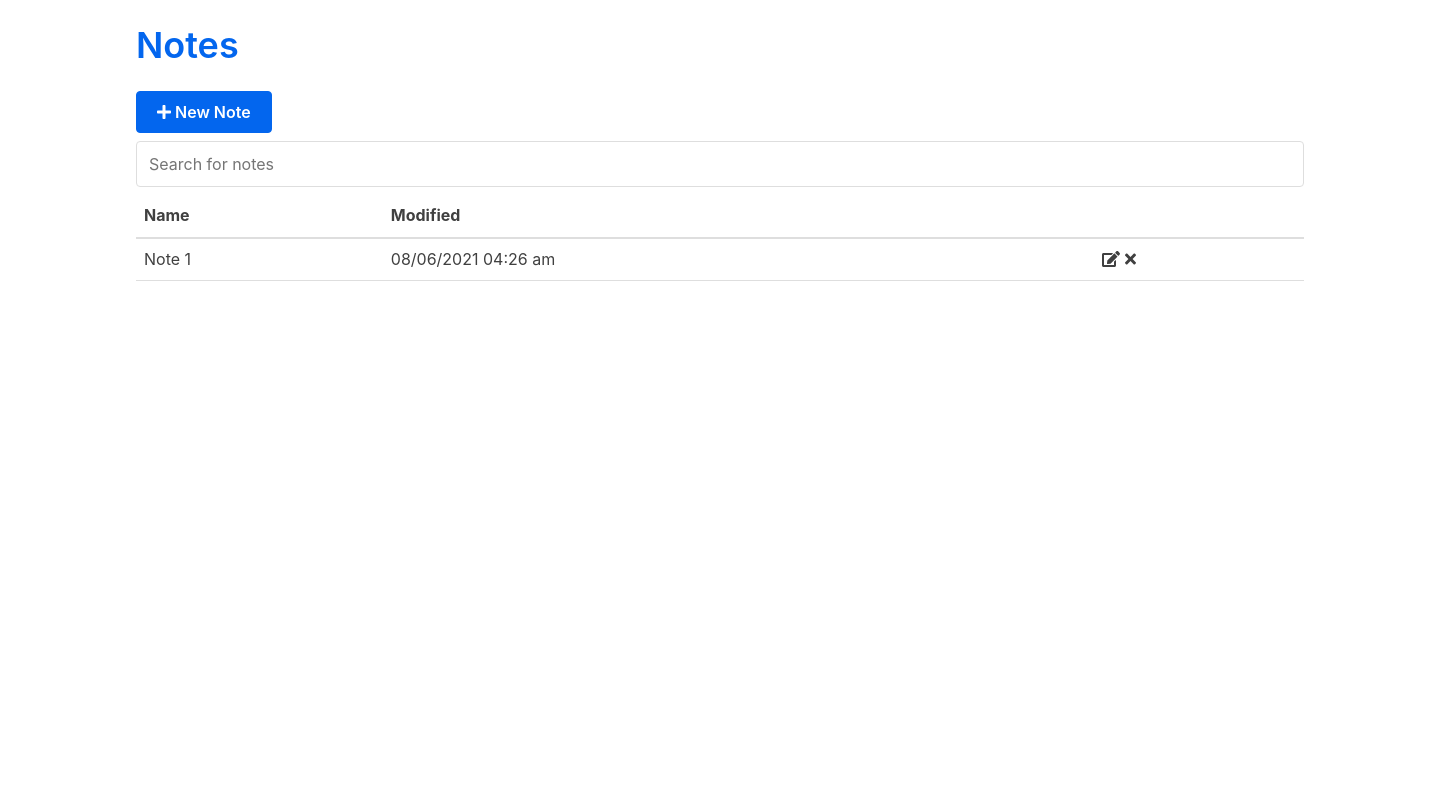
Scenario: Notes › edits an existing note
Expected: the text "Note 1" is shown, [136,238,383,281]
Click the link with test id "editLink".
click(1111, 259)  # box [1102,249,1120,269]
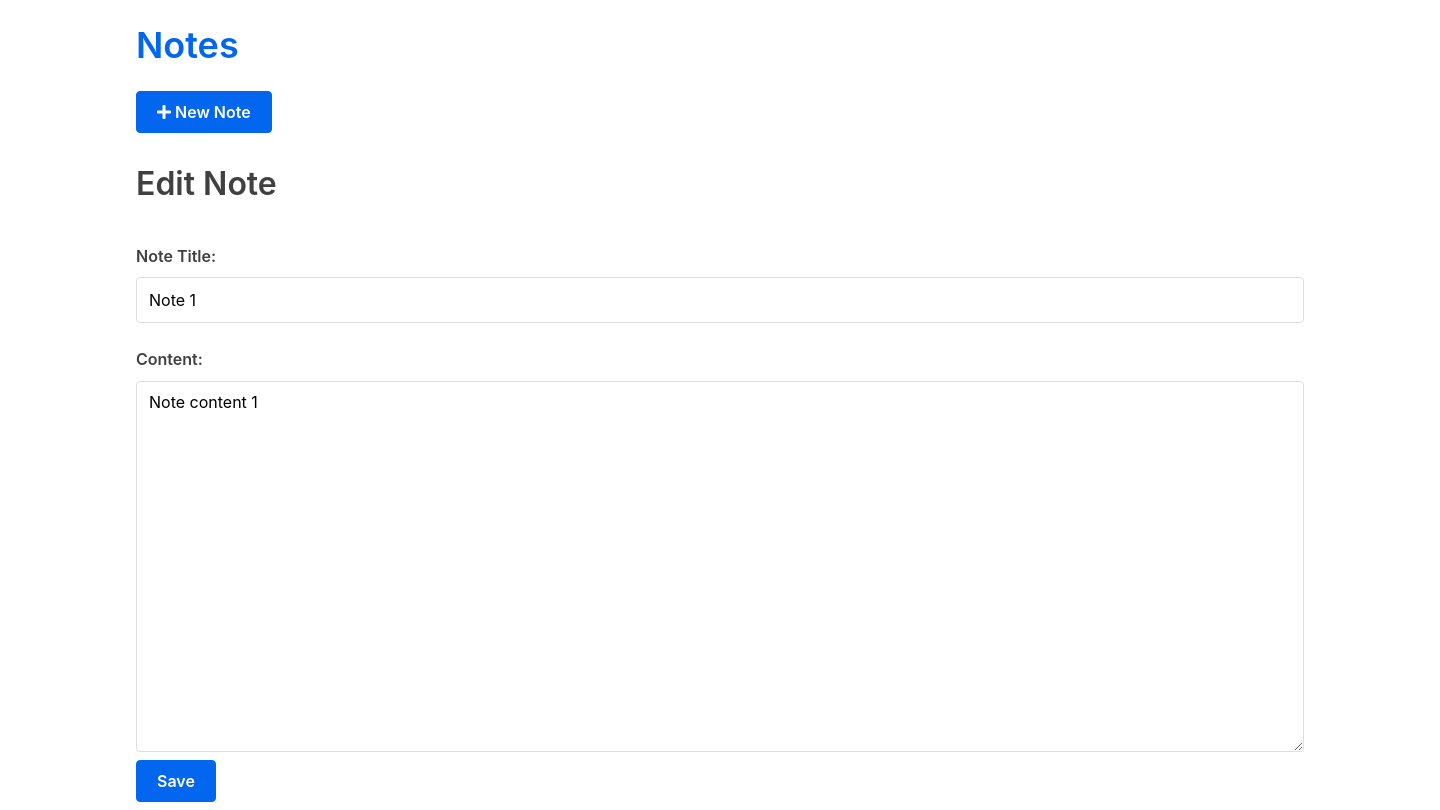
Replace the text in the field labelled "Note Title:" with "Edited Note" at (720, 300), box [136,277,1304,323]
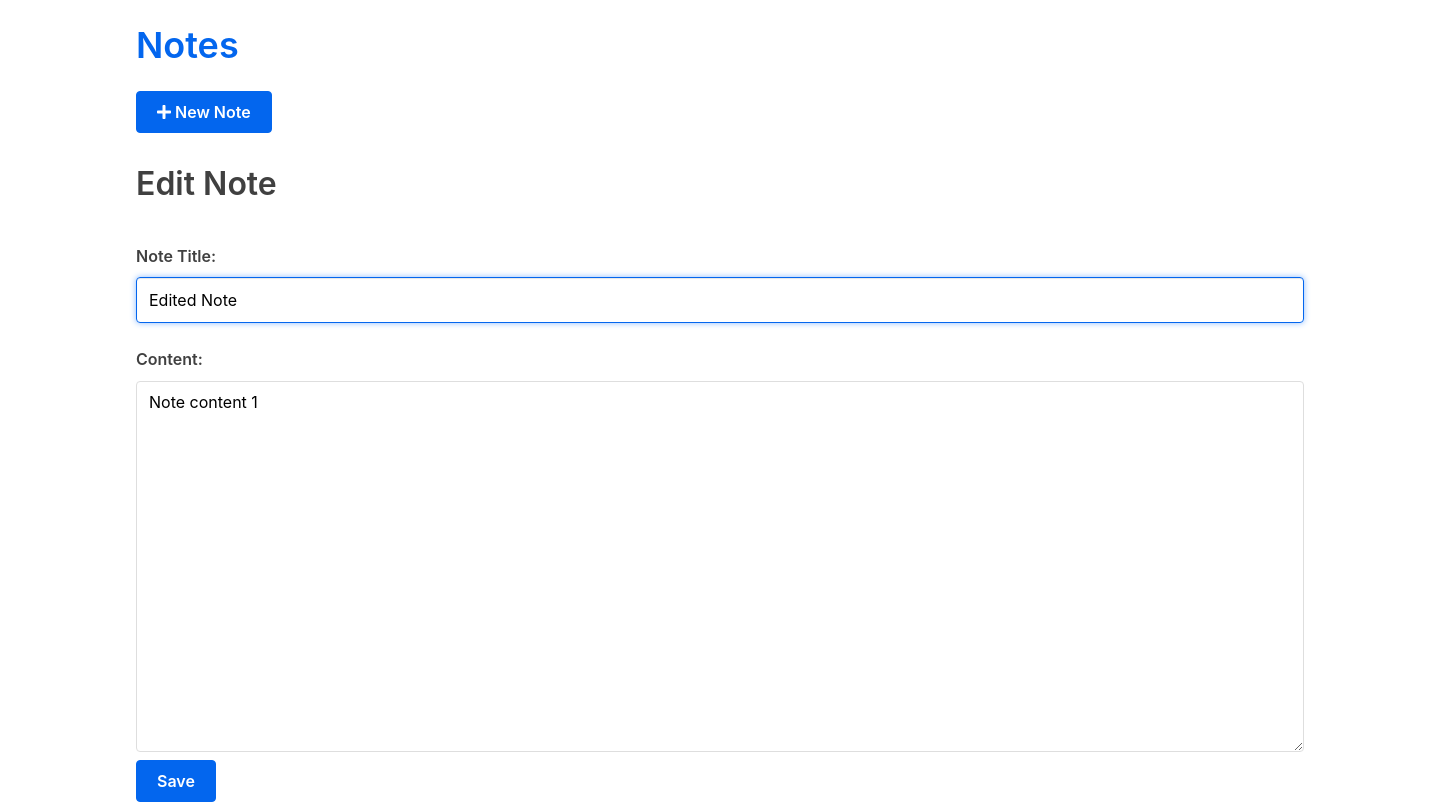
Click the button "Save".
click(176, 781)  # box [136,760,216,802]
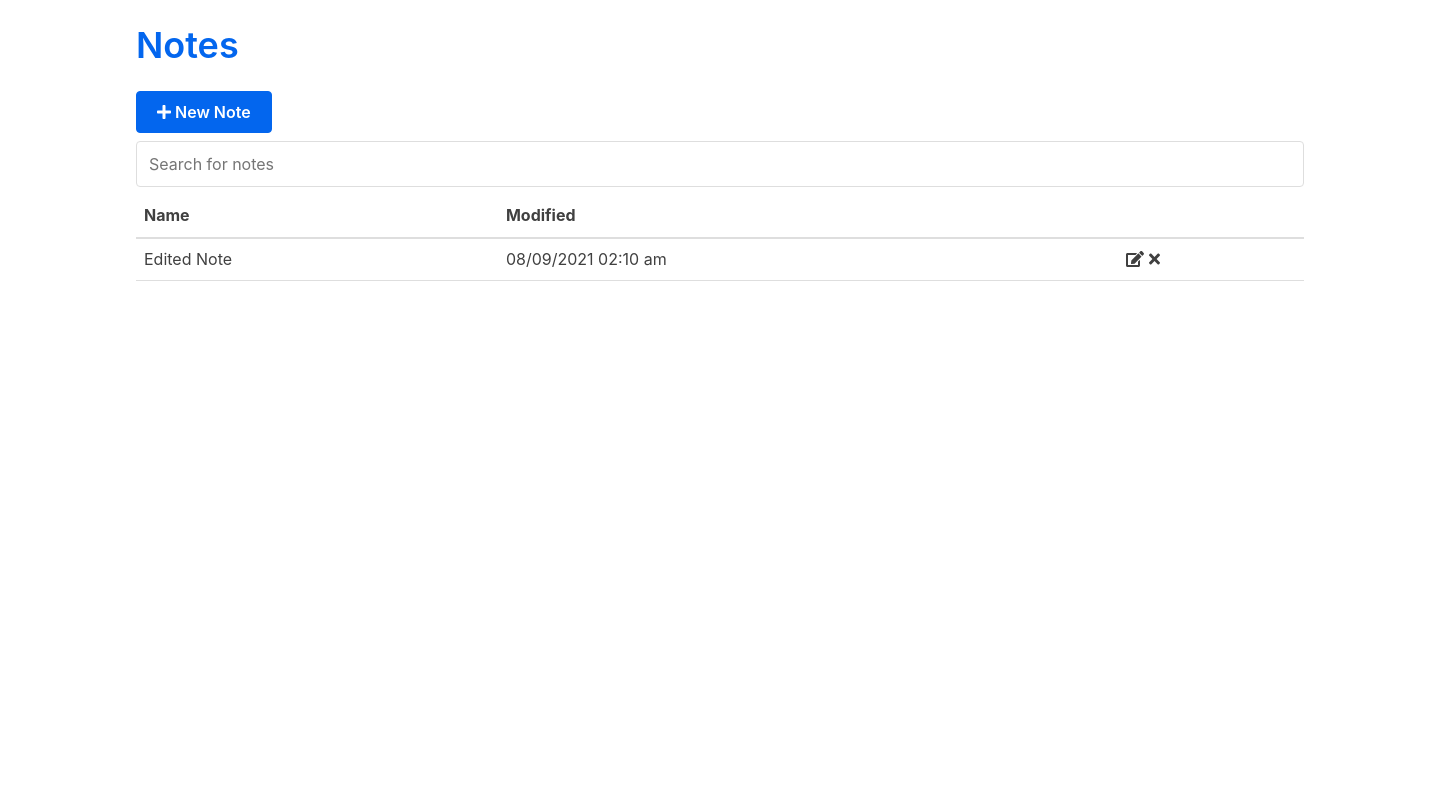
Expected: the text "Note 1" is not shown
Result: the text "Edited Note" is shown at [136,238,498,281]
